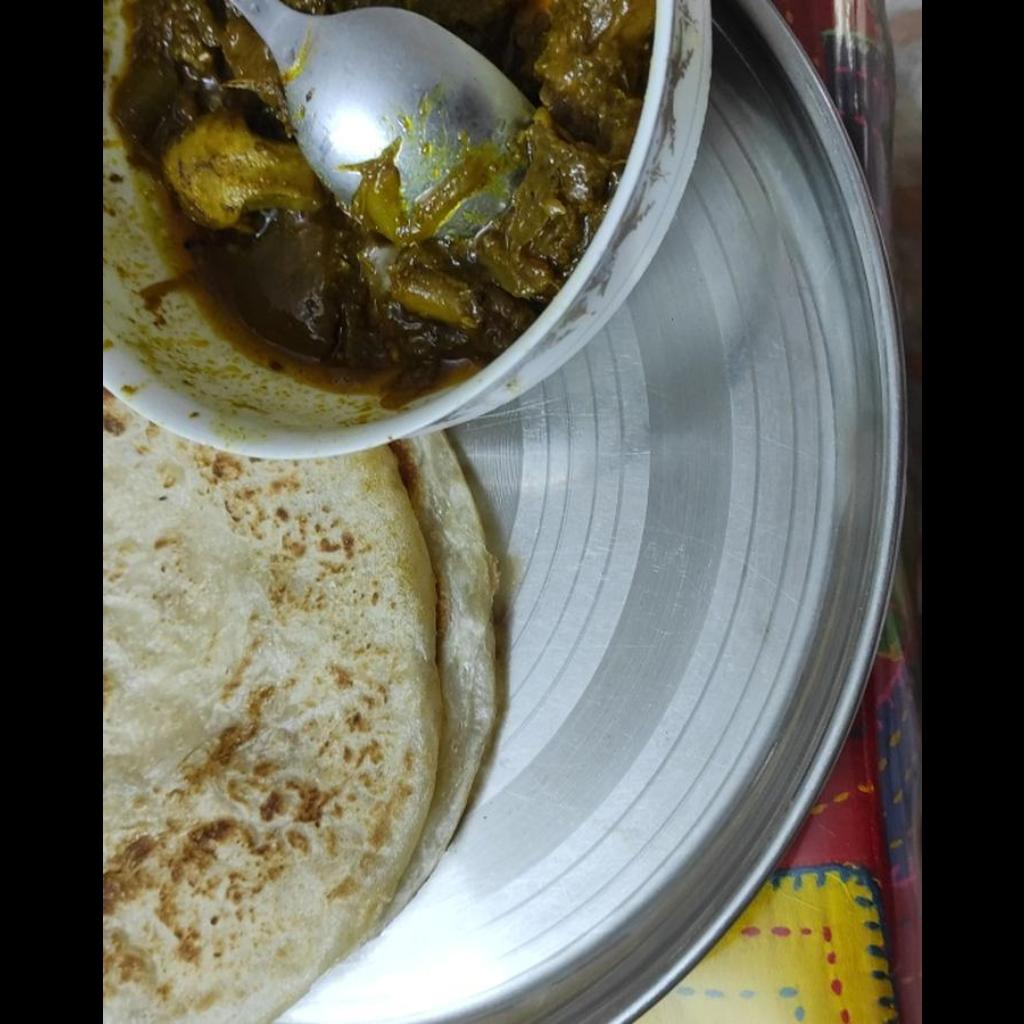chicken: (112, 0, 653, 397)
ruti: (102, 396, 498, 1022)
